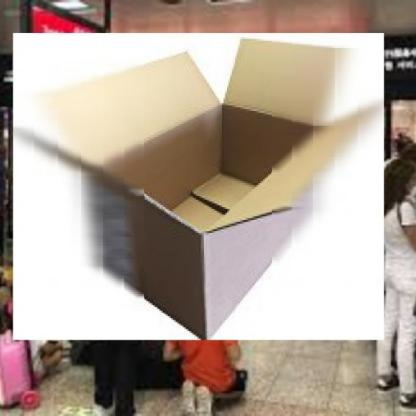box: (7, 29, 391, 345)
